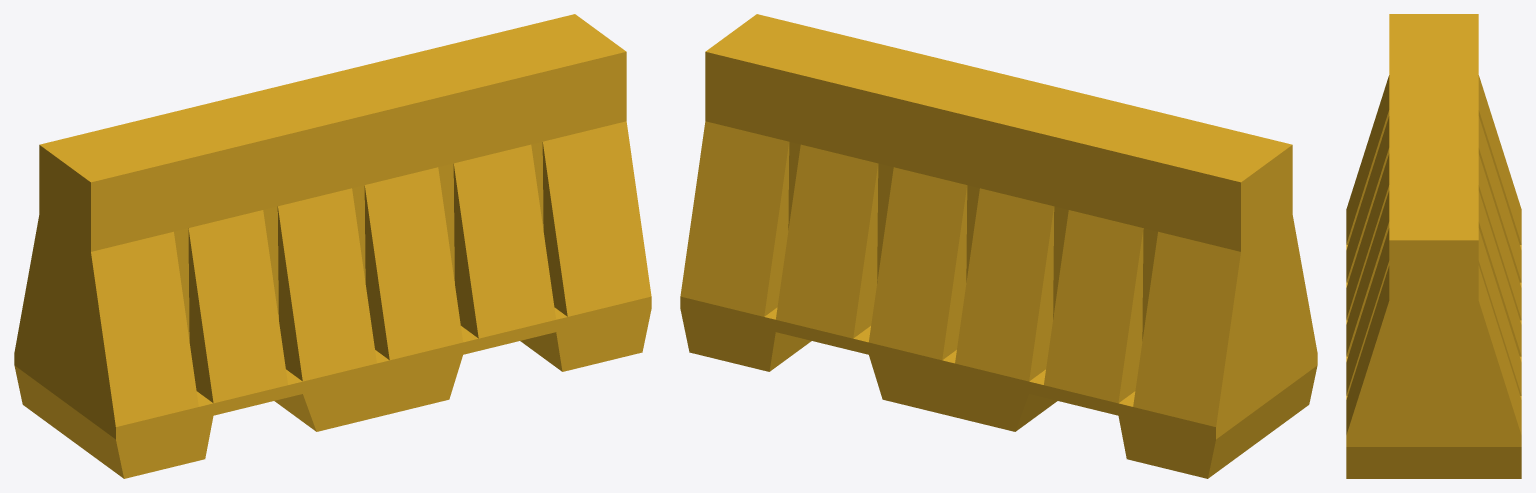
Rendered from حواجز.fbx.
3 views of the same model, side by side, from view 1: azimuth 30°, elevation 25°; view 2: azimuth 150°, elevation 25°; view 3: azimuth 270°, elevation 25° (orthographic). The views are drawn at different scales.
Parts seen in each view (by area): view 1: Cube; view 2: Cube; view 3: Cube.
Boxes of the visible parts, x1,y1,x2,y2 form: Cube: (14,14,651,478); Cube: (680,14,1317,478); Cube: (1346,14,1521,478).
Size of the model in its own units: 600 by 300 by 197.
